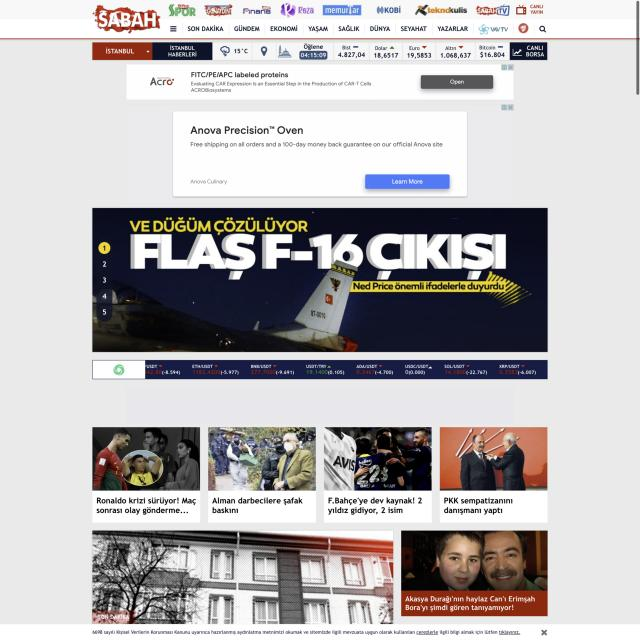logo: (92, 0, 163, 36), (412, 2, 469, 18), (280, 1, 315, 19), (321, 3, 364, 17), (474, 2, 511, 18), (168, 2, 198, 18), (514, 2, 546, 16), (203, 4, 234, 18), (478, 23, 510, 36), (241, 4, 272, 17), (374, 4, 403, 16), (517, 21, 531, 35)
navigation: (185, 22, 473, 36), (169, 24, 177, 34)
